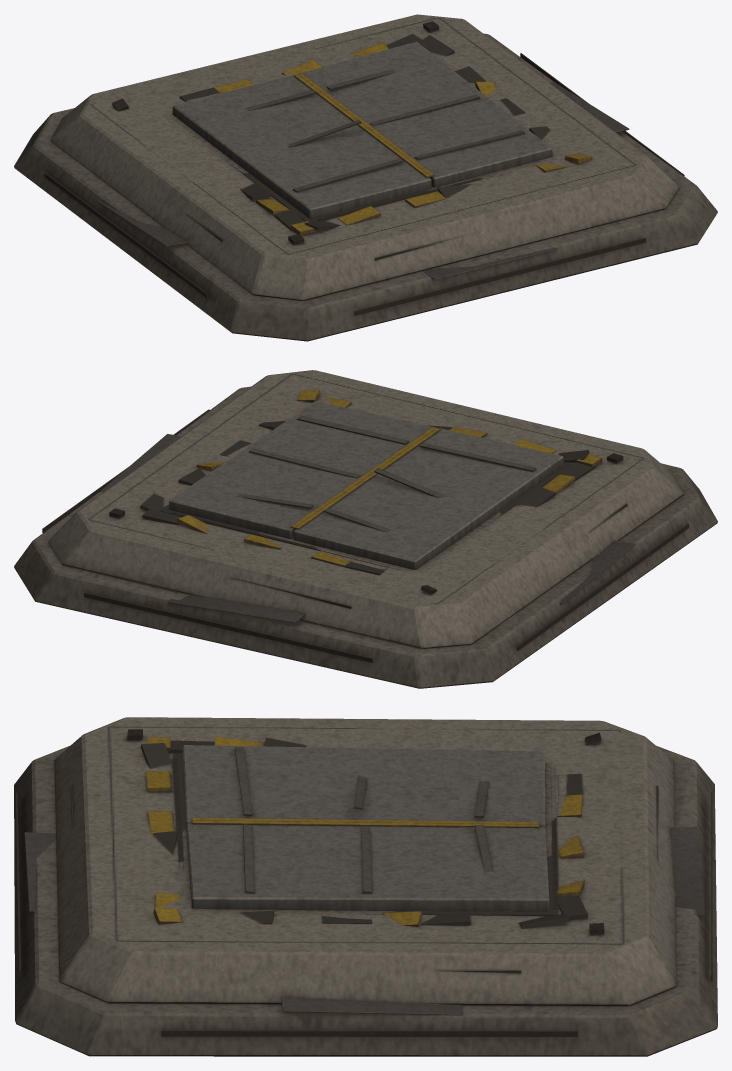
The model's file is ord_reckoning_wreck.fbx.
The picture shows the model from 3 angles, top to bottom: view 1: azimuth 30°, elevation 25°; view 2: azimuth 150°, elevation 25°; view 3: azimuth 270°, elevation 25°; orthographic projection. The views are drawn at different scales.
Visible parts, largest first — view 1: base_bar, hatch_bar, hatch2_bar; view 2: base_bar, hatch_bar, hatch2_bar; view 3: base_bar, hatch2_bar, hatch_bar.
Part boxes in pixels (x1,y1,x2,y2): base_bar: (14, 14, 717, 341); hatch_bar: (172, 74, 431, 218); hatch2_bar: (298, 41, 552, 187); base_bar: (14, 370, 717, 688); hatch_bar: (293, 428, 563, 569); hatch2_bar: (168, 401, 436, 538); base_bar: (14, 717, 717, 1056); hatch2_bar: (186, 820, 549, 911); hatch_bar: (182, 745, 545, 832).
Bounding box in the file's own units: 2368 × 549 × 2348.
2 materials, 2 textured.
